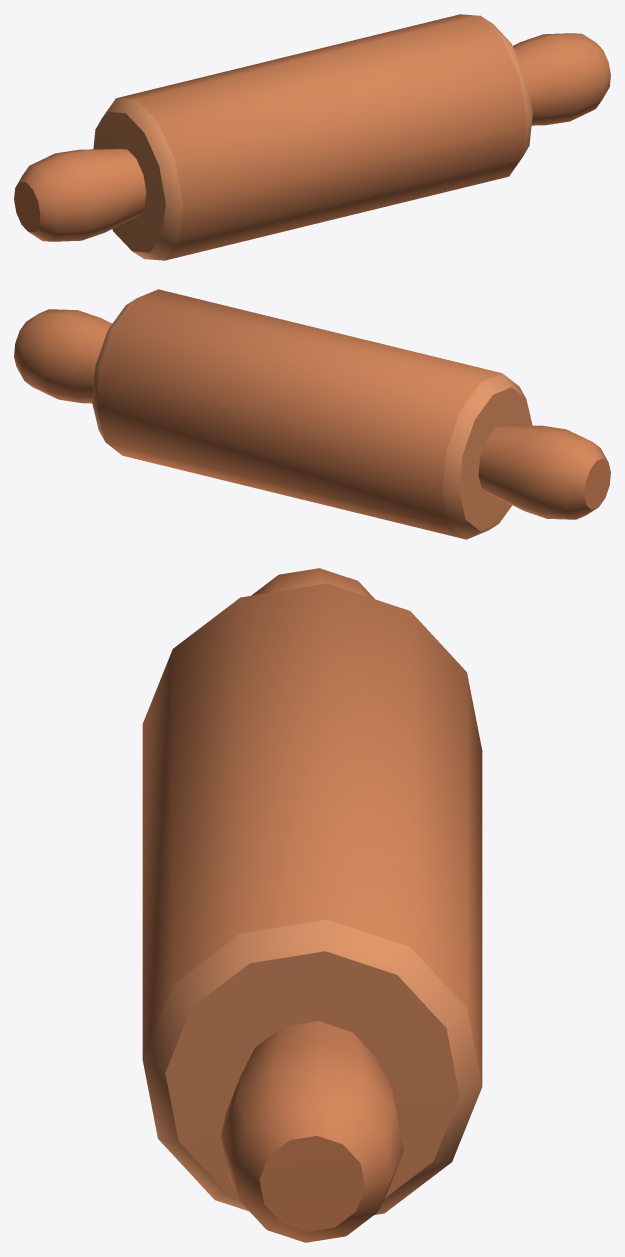
The model's file is dough-roller.glb.
3 renders of one model, top to bottom at view 1: azimuth 30°, elevation 25°; view 2: azimuth 150°, elevation 25°; view 3: azimuth 270°, elevation 25°, orthographic. The views are drawn at different scales.
Parts seen in each view (by area): view 1: dough_roller; view 2: dough_roller; view 3: dough_roller.
Part boxes in pixels (left/top/right/bottom): dough_roller: left=14, top=14, right=610, bottom=260; dough_roller: left=14, top=289, right=610, bottom=539; dough_roller: left=142, top=568, right=482, bottom=1242.
Size of the model in its own units: 1 by 0.2578 by 0.2578.
1 material, 1 textured.
